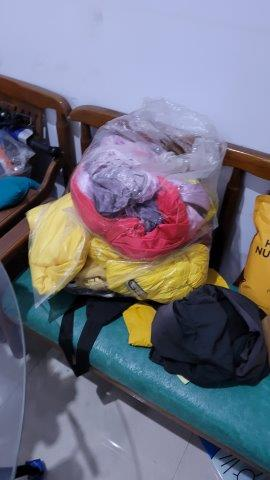plastik: (78, 90, 221, 246)
